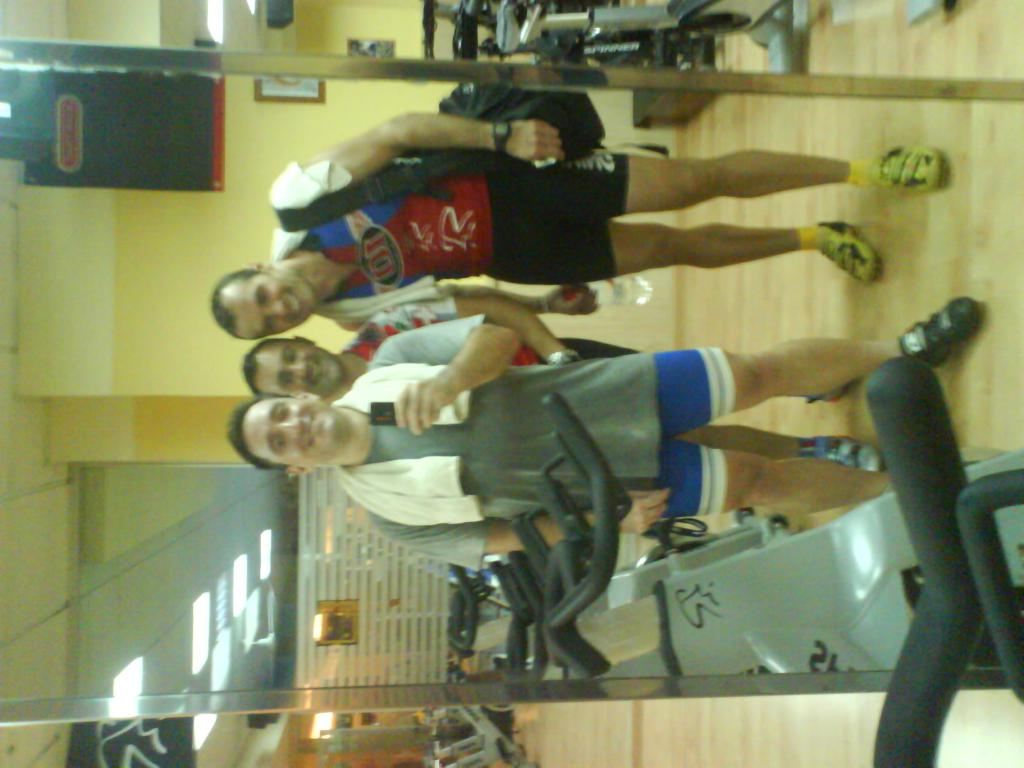Person: (226, 292, 981, 572), (210, 110, 950, 342), (243, 295, 883, 473)
